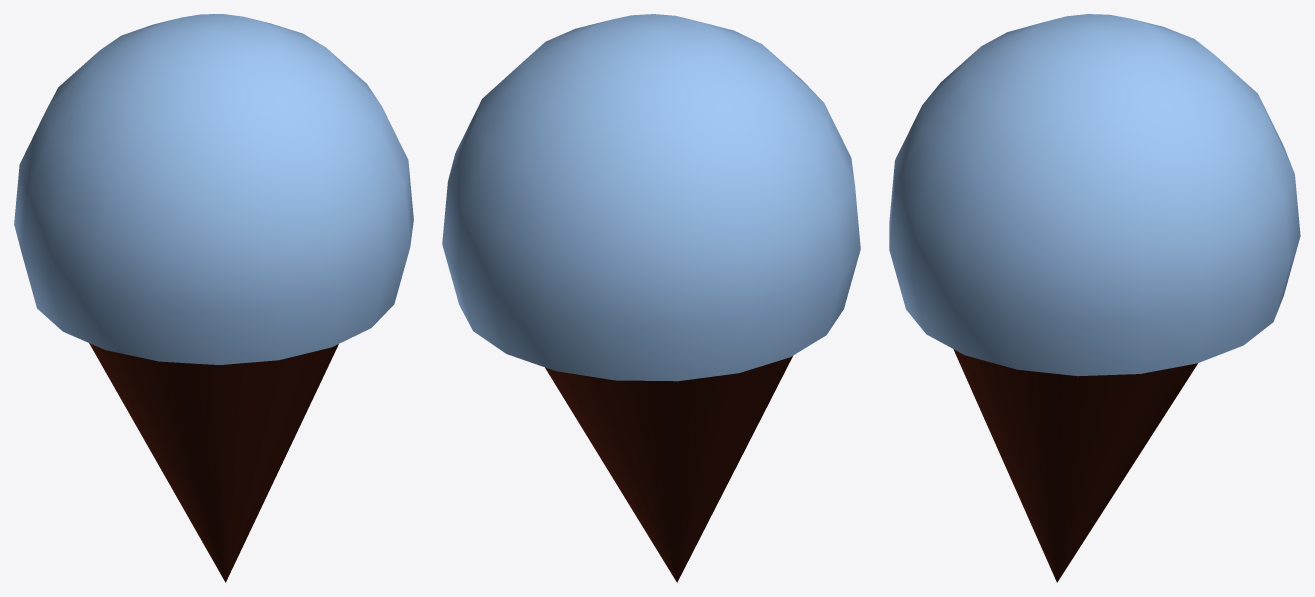
The model's file is icecream.FBX.
3 renders of one model, left to right at view 1: azimuth 30°, elevation 25°; view 2: azimuth 150°, elevation 25°; view 3: azimuth 270°, elevation 25°, orthographic. The views are drawn at different scales.
Visible parts, largest first — view 1: Sphere001, Cone001; view 2: Sphere001, Cone001; view 3: Sphere001, Cone001.
Boxes of the visible parts, left/top/right/bottom form: Sphere001: left=14, top=14, right=413, bottom=364; Cone001: left=89, top=343, right=338, bottom=582; Sphere001: left=442, top=14, right=860, bottom=381; Cone001: left=545, top=356, right=792, bottom=582; Sphere001: left=889, top=14, right=1300, bottom=376; Cone001: left=953, top=349, right=1197, bottom=582.
Size of the model in its own units: 10.59 by 15.68 by 10.55.
